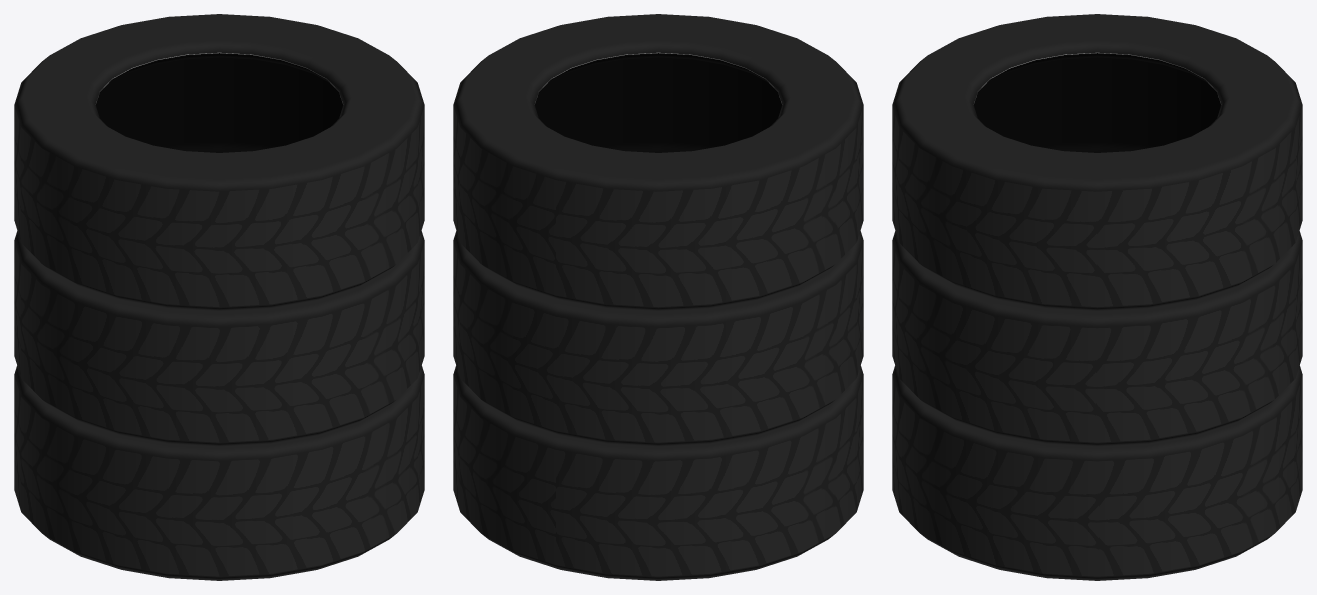
Rendered from Tire-barrier_Black.fbx.
3 renders of one model, left to right at view 1: azimuth 30°, elevation 25°; view 2: azimuth 150°, elevation 25°; view 3: azimuth 270°, elevation 25°, orthographic.
Visible parts, largest first — view 1: Tire-barrier_Black; view 2: Tire-barrier_Black; view 3: Tire-barrier_Black.
Boxes of the visible parts, x1,y1,x2,y2 form: Tire-barrier_Black: [14, 14, 424, 580]; Tire-barrier_Black: [453, 14, 863, 580]; Tire-barrier_Black: [892, 14, 1302, 580].
Bounding box in the file's own units: 91.6 × 98.8 × 91.6.
